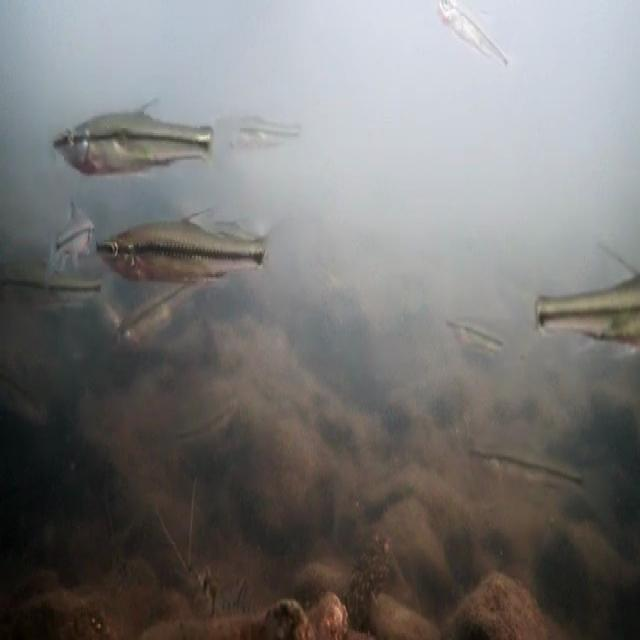Cakil Baligi: (96, 198, 308, 291), (49, 94, 240, 177)
